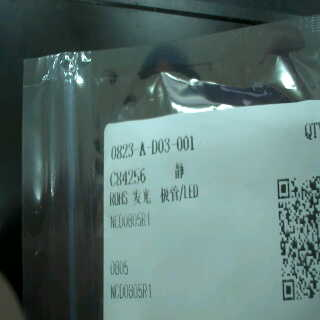LED: (133, 181, 202, 205)
